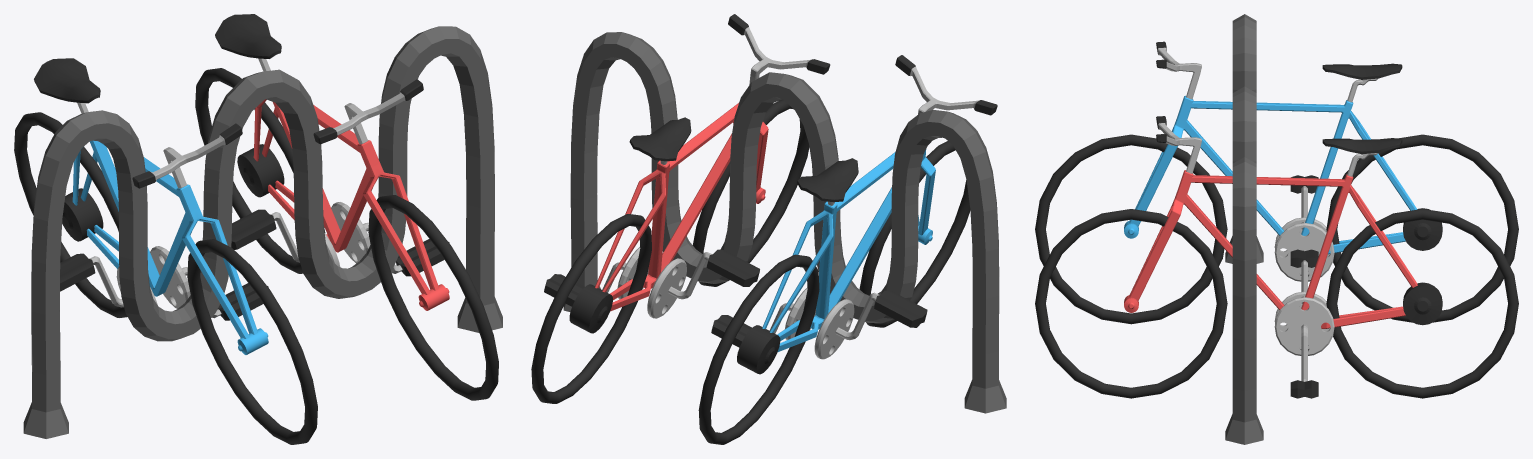
Rendered from unwrapped_bikeracks.fbx.
The picture shows the model from 3 angles, left to right: view 1: azimuth 30°, elevation 25°; view 2: azimuth 150°, elevation 25°; view 3: azimuth 270°, elevation 25°; orthographic projection. The views are drawn at different scales.
Visible parts, largest first — view 1: pCylinder5; view 2: pCylinder5; view 3: pCylinder5.
Boxes of the visible parts, x1,y1,x2,y2 form: pCylinder5: (14,14,502,444); pCylinder5: (531,14,1006,444); pCylinder5: (1035,14,1518,444).
Bounding box in the file's own units: 209 × 127 × 217.
